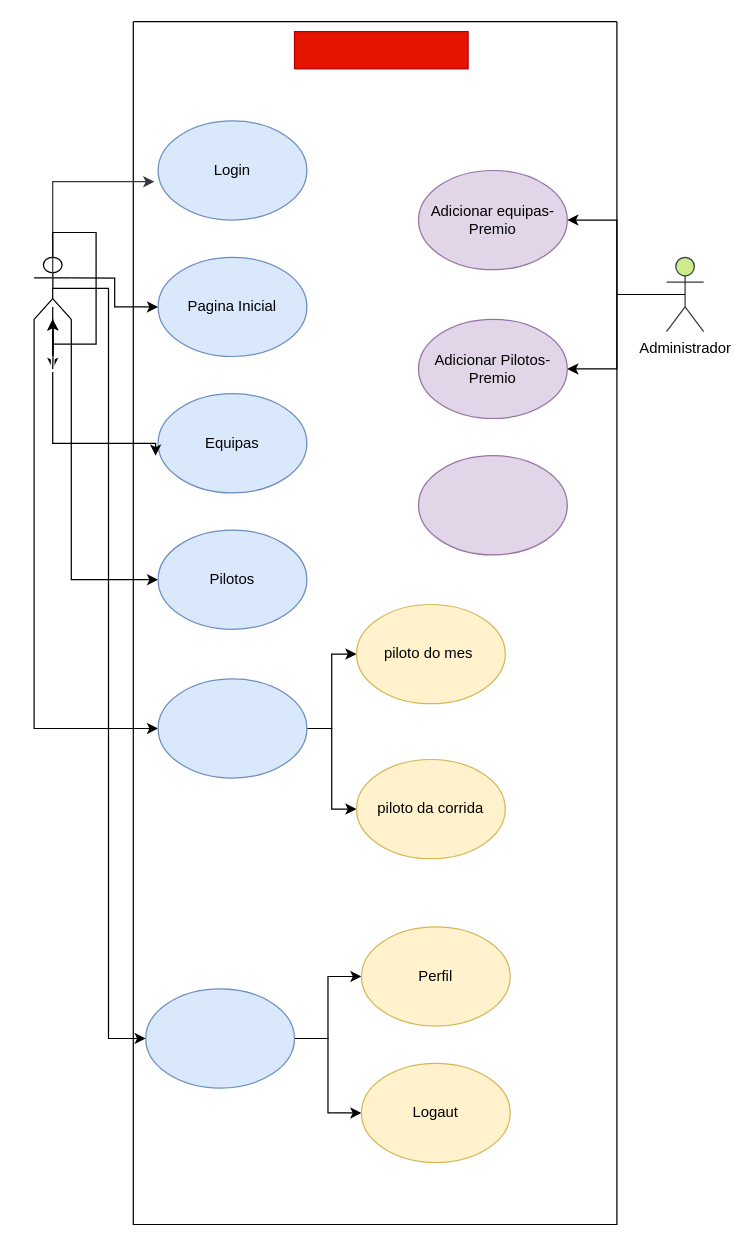
Image size: 753x1246. Some labels were removed from this diagram. The shapes that lost their labels are listed below. From the top down, each one's box as (x1, y1, x2, y2) in pixels, then its label:
(293, 30, 468, 69): Formula1Passionados
(33, 256, 71, 319): Utilizador
(417, 454, 567, 555): Gerencia os utilizadores
(157, 678, 307, 778): Apostas
(144, 988, 294, 1088): Conta
